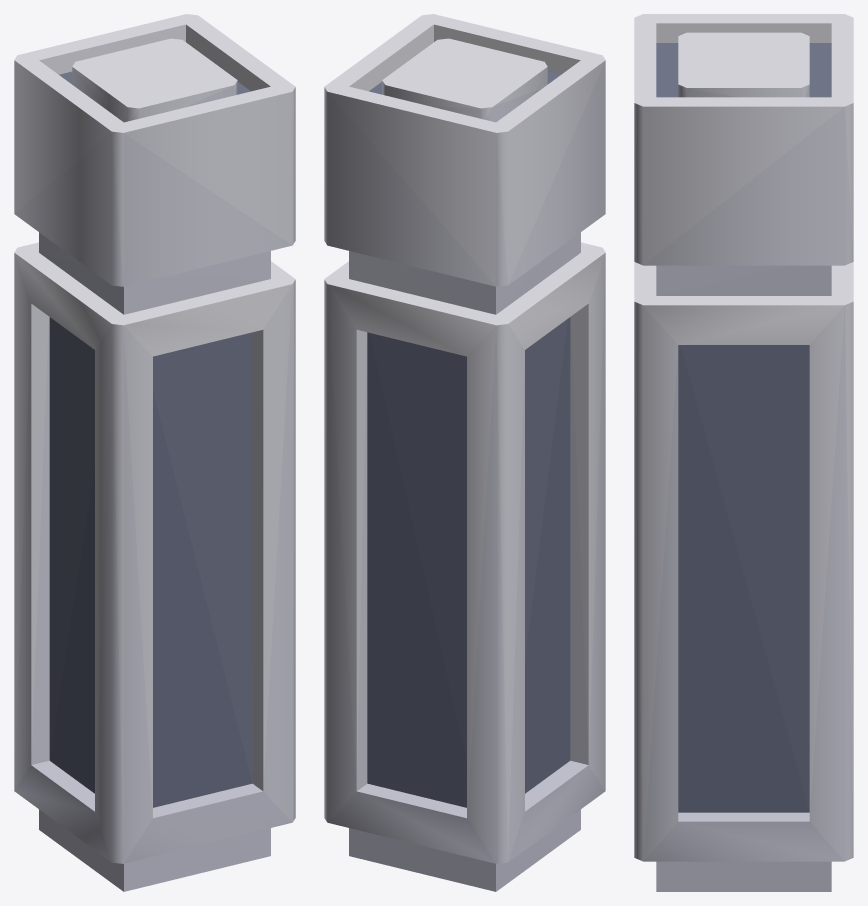
The model's file is sm-building-a.obj.
3 renders of one model, left to right at view 1: azimuth 30°, elevation 25°; view 2: azimuth 150°, elevation 25°; view 3: azimuth 270°, elevation 25°, orthographic. The views are drawn at different scales.
Bounding box in the file's own units: 0.5 × 2 × 0.5.
